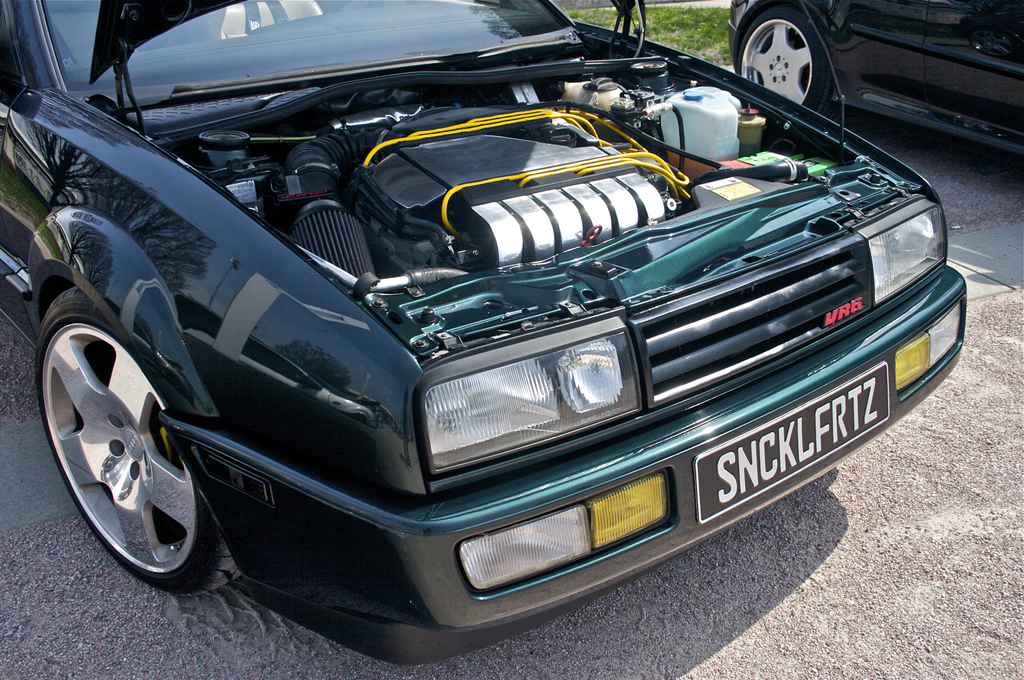Car: (0, 0, 971, 662), (727, 0, 1023, 154)
